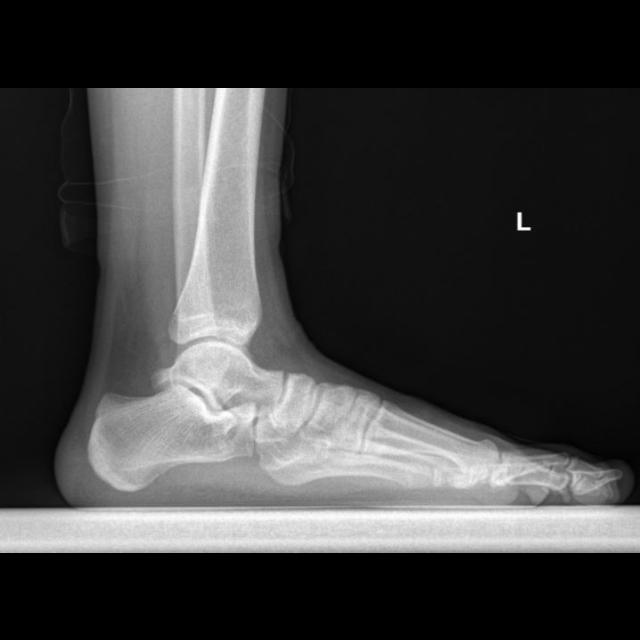a: (89, 348, 258, 490)
b: (267, 372, 319, 436)
c: (361, 398, 501, 489)
